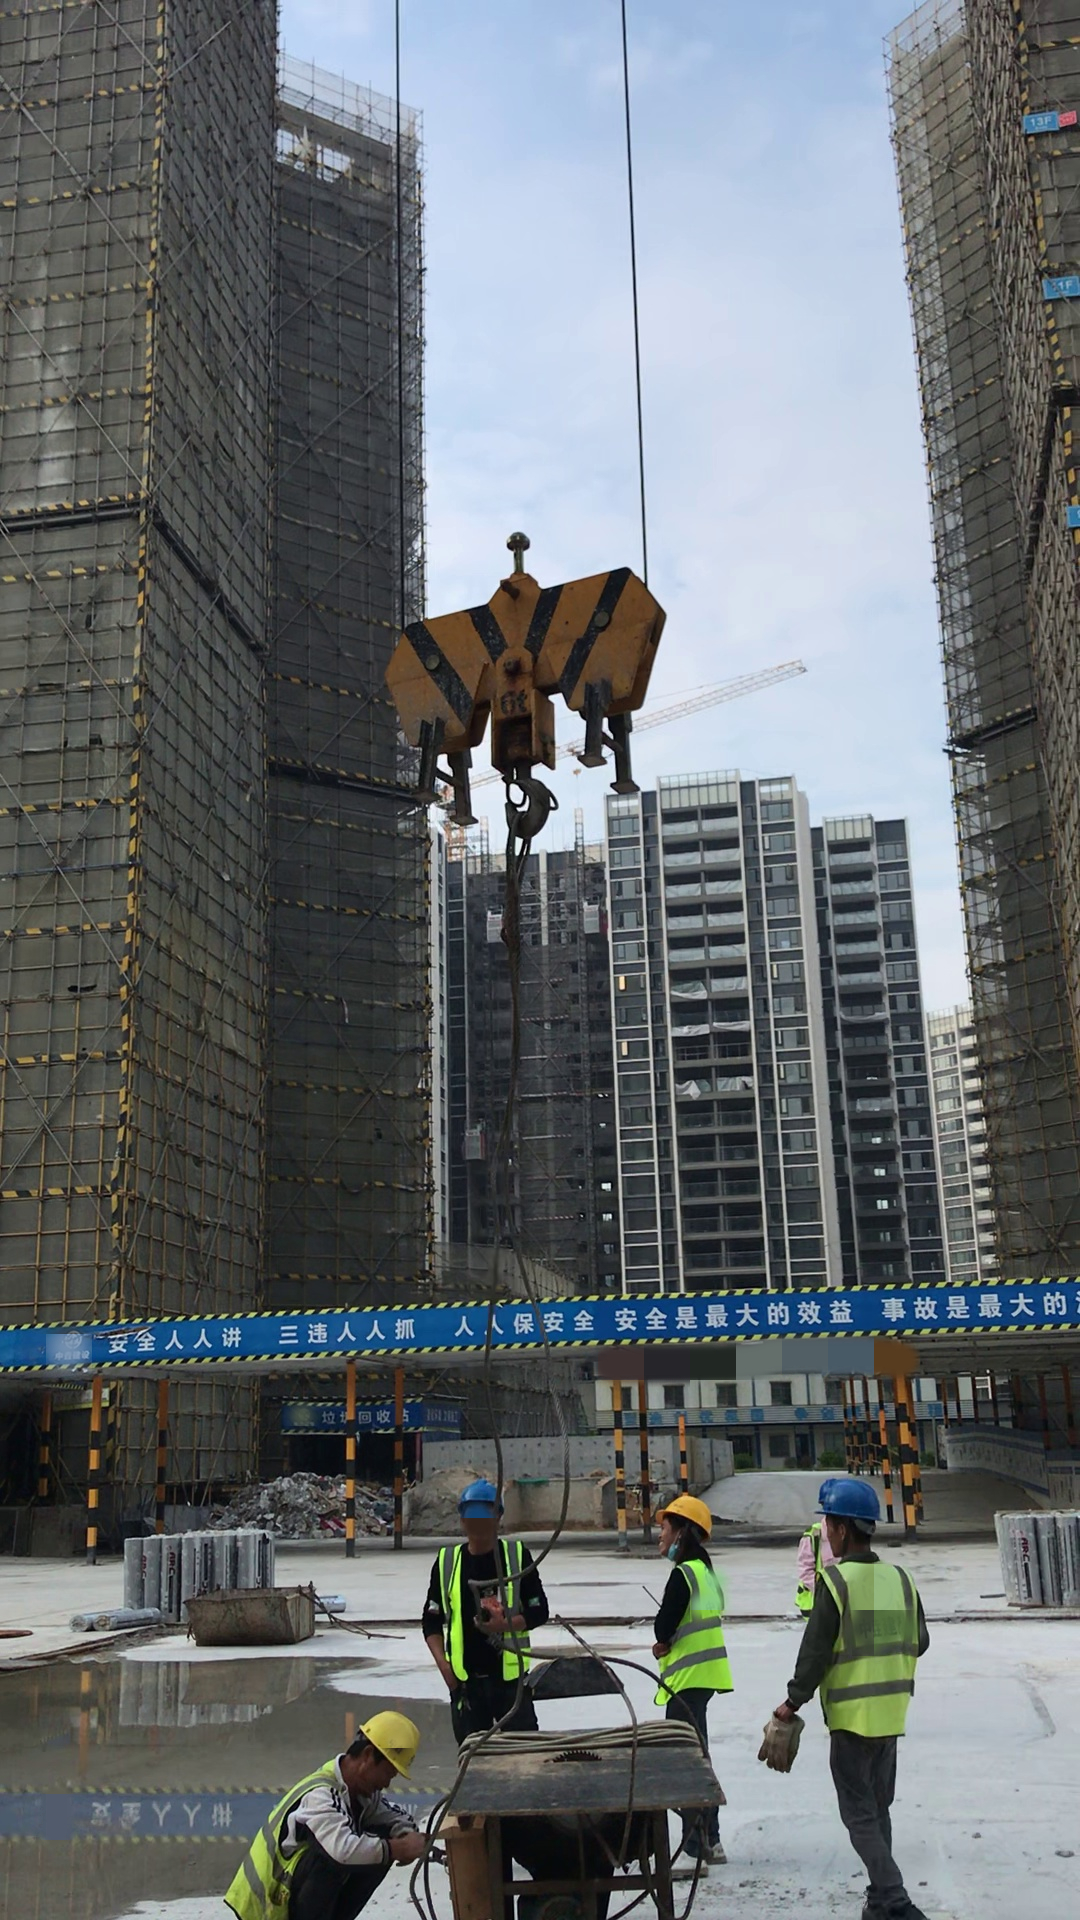cutter: (461, 1713, 721, 1920)
helmet: (341, 1686, 436, 1773), (817, 1470, 903, 1536), (453, 1465, 524, 1527), (656, 1483, 728, 1540)
hook: (378, 529, 670, 838)
hopper: (178, 1583, 335, 1645)
person: (792, 1473, 957, 1920), (223, 1709, 417, 1920), (660, 1500, 753, 1852), (430, 1479, 546, 1743)
slogan: (99, 1286, 1080, 1366), (621, 1408, 939, 1432), (315, 1404, 418, 1433)
vest: (805, 1558, 918, 1754), (235, 1754, 358, 1920), (441, 1540, 524, 1665), (666, 1555, 725, 1688)
